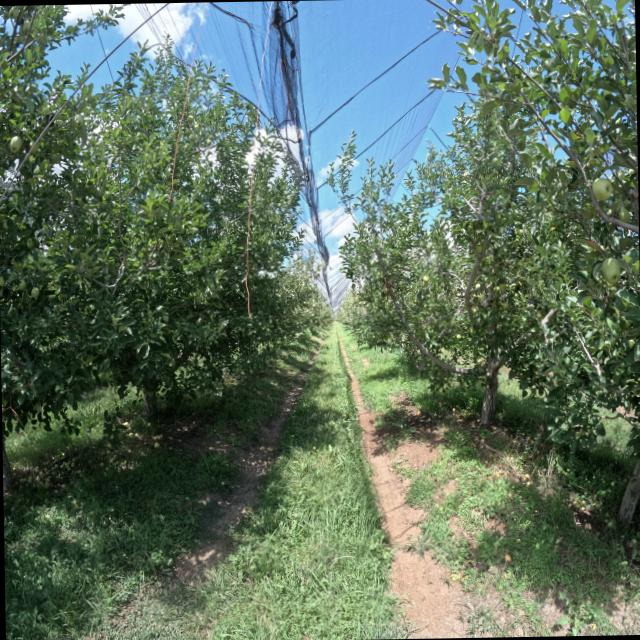-FireBlight-: (381, 276, 392, 298)
